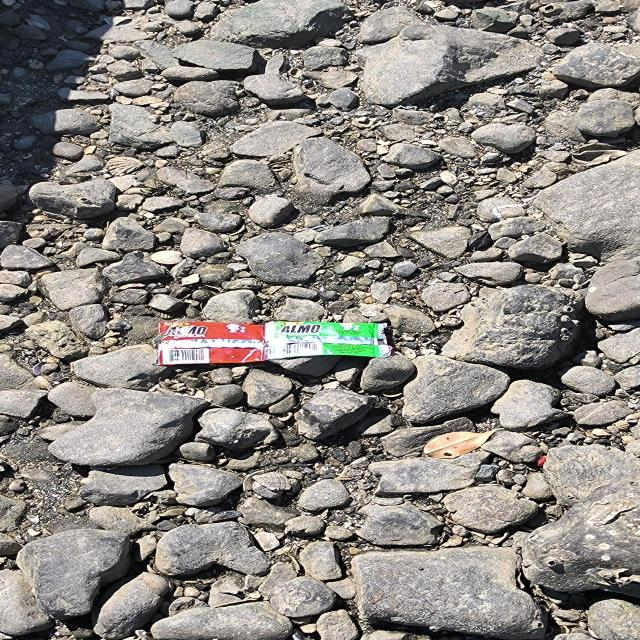plastic_waste: (156, 322, 380, 367)
